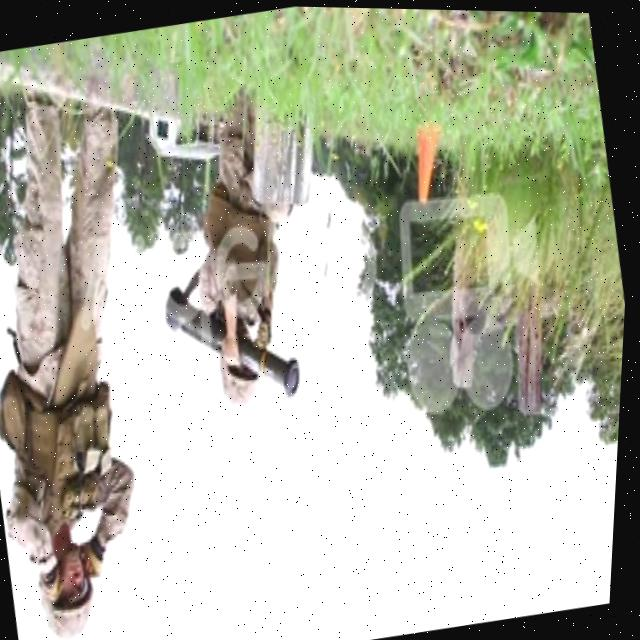rocket: (152, 262, 320, 422)
